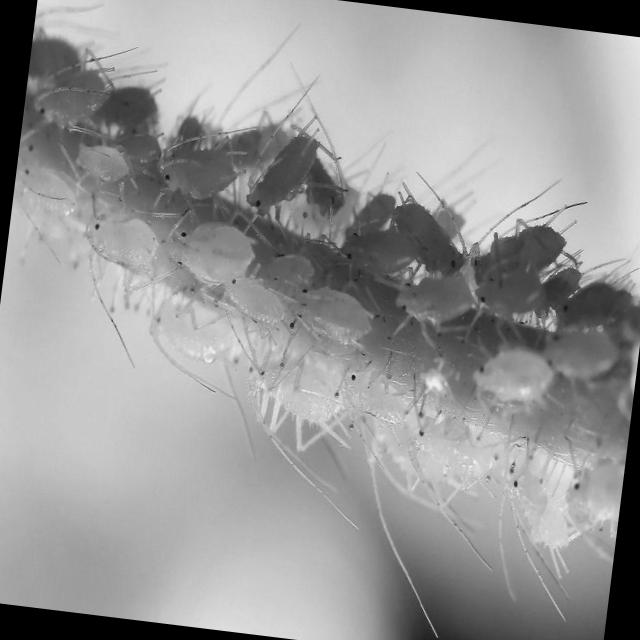Aphids: (147, 178, 286, 324), (232, 326, 354, 444), (458, 328, 572, 432), (64, 174, 168, 288), (402, 385, 503, 500), (276, 260, 382, 362), (128, 280, 248, 370), (237, 120, 323, 220), (387, 251, 475, 339), (472, 258, 557, 330), (66, 133, 134, 190)
